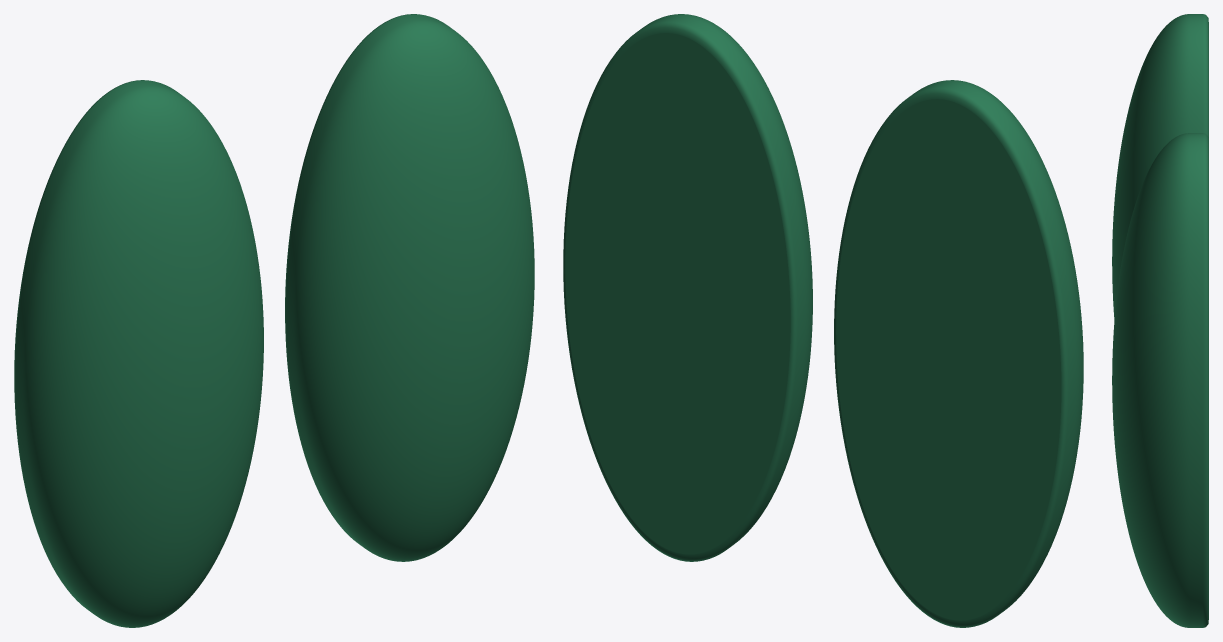
Rendered from matched-pair-v1.glb.
3 renders of one model, left to right at view 1: azimuth 30°, elevation 25°; view 2: azimuth 150°, elevation 25°; view 3: azimuth 270°, elevation 25°, orthographic. The views are drawn at different scales.
Parts seen in each view (by area): view 1: Long-Oval Cabochon 22x10x4mm, Long-Oval Cabochon 22x10x4mm.001; view 2: Long-Oval Cabochon 22x10x4mm.001, Long-Oval Cabochon 22x10x4mm; view 3: Long-Oval Cabochon 22x10x4mm.001, Long-Oval Cabochon 22x10x4mm.
Part boxes in pixels (x1,y1,x2,y2): Long-Oval Cabochon 22x10x4mm: (14,80,263,627); Long-Oval Cabochon 22x10x4mm.001: (285,14,534,561); Long-Oval Cabochon 22x10x4mm.001: (563,14,812,561); Long-Oval Cabochon 22x10x4mm: (834,80,1083,627); Long-Oval Cabochon 22x10x4mm.001: (1112,133,1208,627); Long-Oval Cabochon 22x10x4mm: (1112,14,1208,320).
Size of the model in its own units: 0.0216 by 0.022 by 0.00398.
